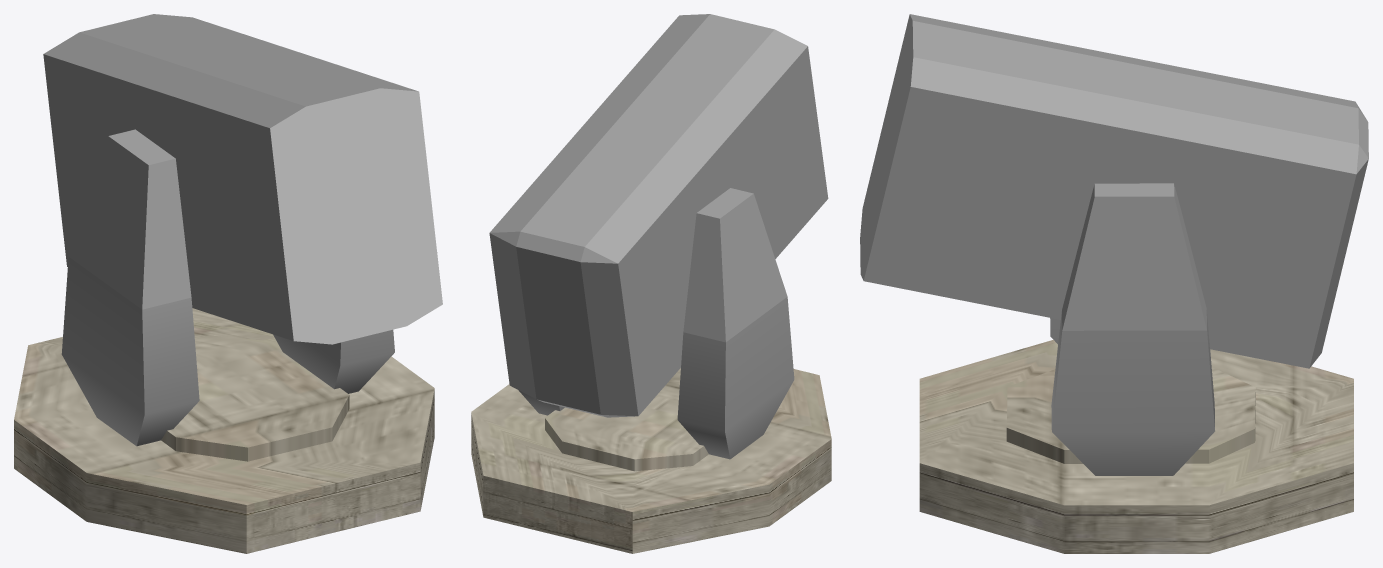
File: MissileTurret.fbx
3 renders of one model, left to right at view 1: azimuth 30°, elevation 25°; view 2: azimuth 150°, elevation 25°; view 3: azimuth 270°, elevation 25°, orthographic. The views are drawn at different scales.
Visible parts, largest first — view 1: MissileTurret, Base, MissileTurretAll; view 2: MissileTurret, Base, MissileTurretAll; view 3: MissileTurret, Base, MissileTurretAll.
Part boxes in pixels (box(x1,y1,x2,y2)): MissileTurret: box(43, 14, 442, 344); Base: box(14, 308, 434, 553); MissileTurretAll: box(61, 129, 394, 446); MissileTurret: box(489, 14, 828, 417); Base: box(471, 368, 831, 553); MissileTurretAll: box(518, 188, 794, 459); MissileTurret: box(860, 14, 1368, 368); Base: box(919, 340, 1353, 553); MissileTurretAll: box(1050, 183, 1214, 475).
Size of the model in its own units: 8.03 by 9.62 by 10.23.
